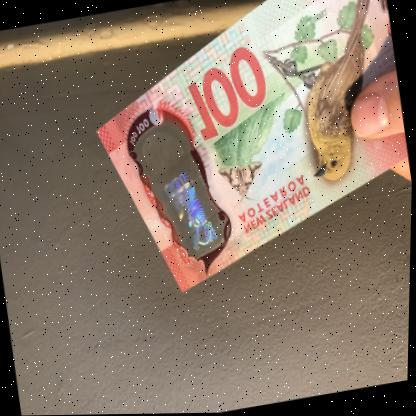100B: (138, 126, 223, 264)
